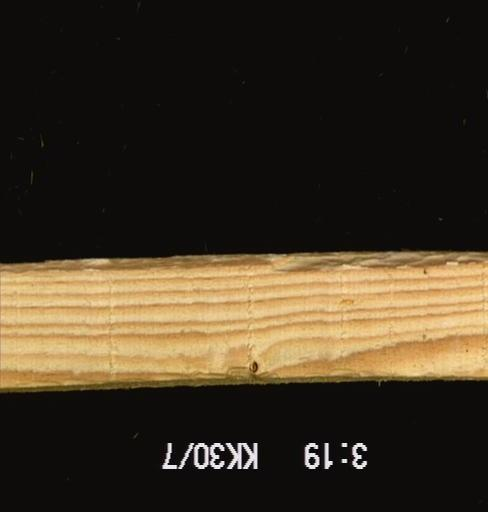dry_knot: (240, 356, 262, 378)
wave: (0, 245, 486, 286)
